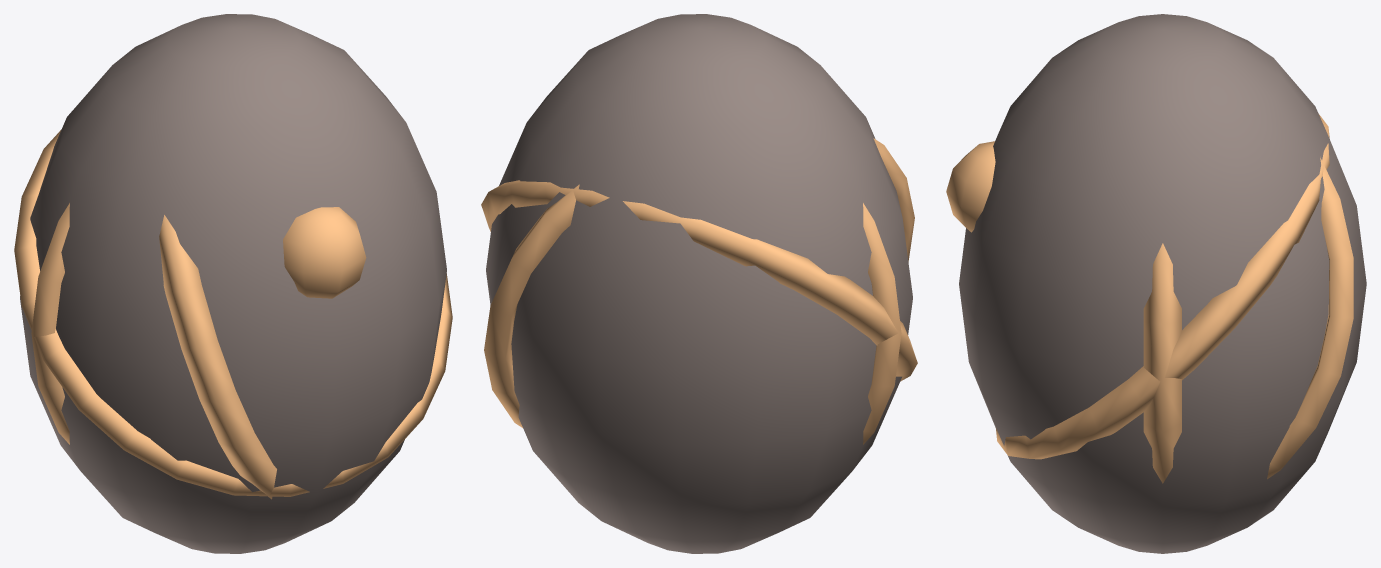
Rendered from TricksterFind.fbx.
The picture shows the model from 3 angles, left to right: view 1: azimuth 30°, elevation 25°; view 2: azimuth 150°, elevation 25°; view 3: azimuth 270°, elevation 25°; orthographic projection.
Visible parts, largest first — view 1: TricksterFind; view 2: TricksterFind; view 3: TricksterFind.
Part boxes in pixels (bbox=[...]): TricksterFind: bbox=[14, 14, 452, 553]; TricksterFind: bbox=[481, 14, 917, 553]; TricksterFind: bbox=[946, 14, 1366, 553].
Bounding box in the file's own units: 0.364 × 0.44 × 0.33.
